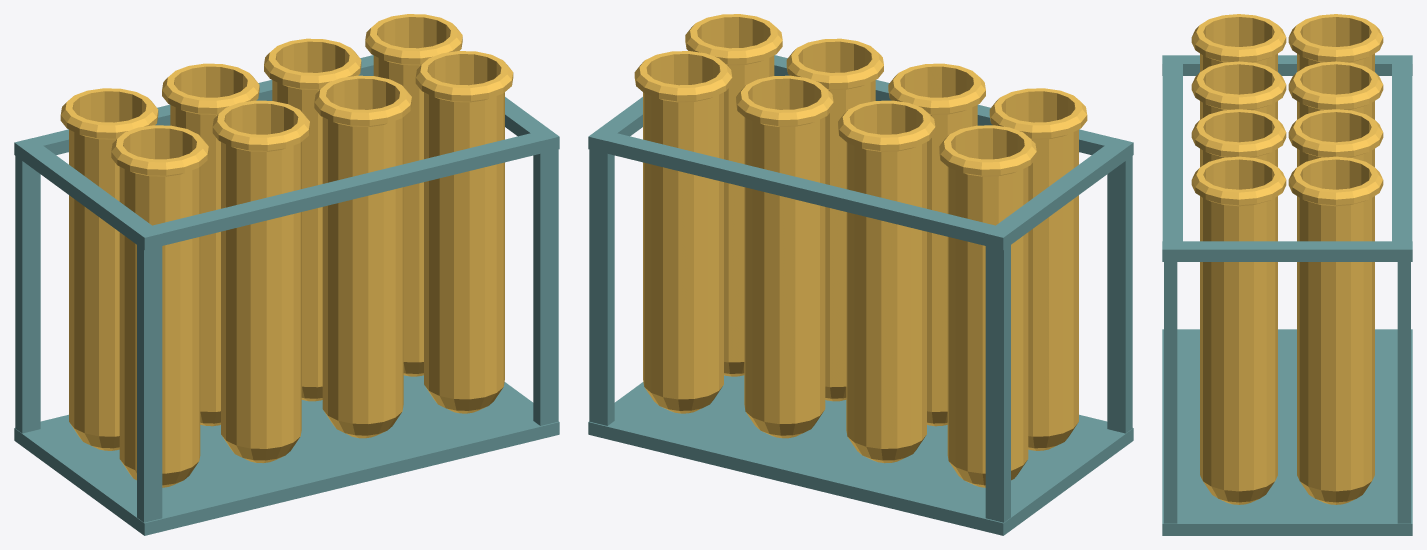
File: 5 test tubes.fbx
3 views of the same model, side by side, from view 1: azimuth 30°, elevation 25°; view 2: azimuth 150°, elevation 25°; view 3: azimuth 270°, elevation 25° (orthographic). The views are drawn at different scales.
Visible parts, largest first — view 1: 5 test tubes; view 2: 5 test tubes; view 3: 5 test tubes.
Part boxes in pixels (box(x1,y1,x2,y2)): 5 test tubes: box(14, 14, 559, 535); 5 test tubes: box(588, 14, 1133, 535); 5 test tubes: box(1162, 14, 1412, 535).
Bounding box in the file's own units: 14.54 × 11.69 × 7.9.
